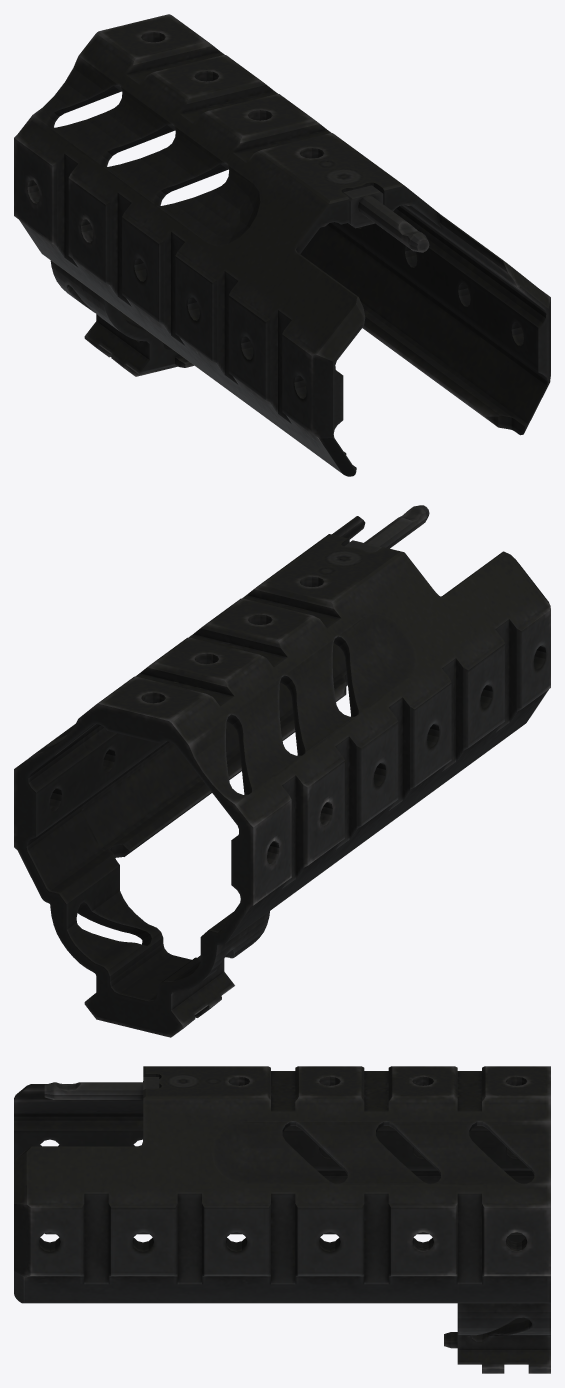
The picture shows the model from 3 angles, top to bottom: view 1: azimuth 30°, elevation 25°; view 2: azimuth 150°, elevation 25°; view 3: azimuth 270°, elevation 25°; orthographic projection. The views are drawn at different scales.
Parts seen in each view (by area): view 1: TW_676149fbe2cf1419500357ee_PZ_Import; view 2: TW_676149fbe2cf1419500357ee_PZ_Import; view 3: TW_676149fbe2cf1419500357ee_PZ_Import.
Part boxes in pixels (box(x1,y1,x2,y2)): TW_676149fbe2cf1419500357ee_PZ_Import: box(14, 14, 550, 476); TW_676149fbe2cf1419500357ee_PZ_Import: box(14, 505, 550, 1037); TW_676149fbe2cf1419500357ee_PZ_Import: box(14, 1066, 550, 1373).
Bounding box in the file's own units: 0.03 × 0.0666 × 0.0378.
Materials: 1 (1 with a texture image).
